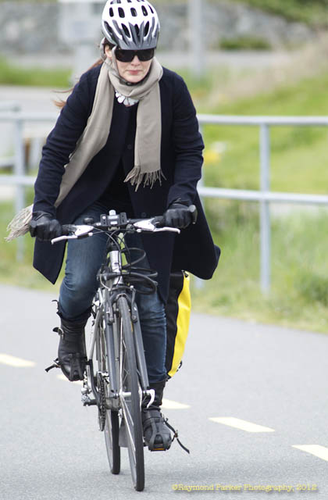bikerider: (13, 6, 224, 495)
